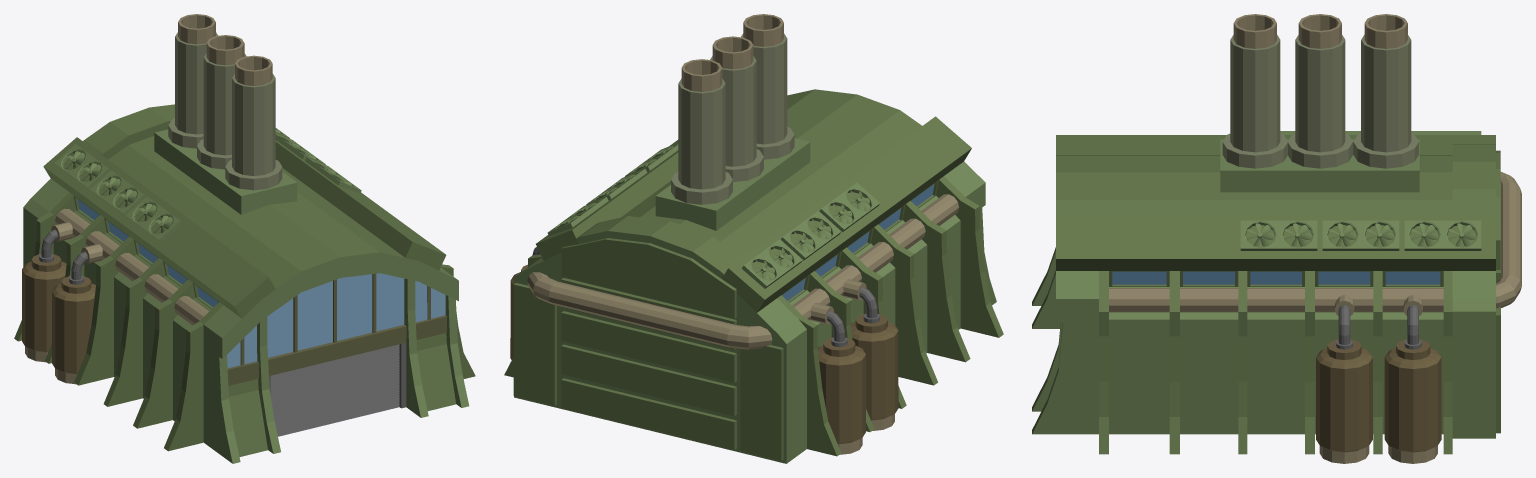
File: Tank_FactoryFIXED.fbx
3 renders of one model, left to right at view 1: azimuth 30°, elevation 25°; view 2: azimuth 150°, elevation 25°; view 3: azimuth 270°, elevation 25°, orthographic. The views are drawn at different scales.
Parts seen in each view (by area): view 1: Body_Main, Cube.109, Body_Inside, truba.002, truba.004, truba.003, Cube.105, Cube.101, Cube.163, Cube.113, Cylinder.199, Cube.167 (+7 smaller); view 2: Body_Main, Pipe_Big, Body_Main.001, truba.004, Cube.196, Cube.197, Cube.198, truba.003, truba.002, Cube.199, Cube.200, Cube.101 (+8 smaller); view 3: Body_Main, Pipe_Big, truba.004, truba.002, truba.003, Cube.101, Cylinder.189, Cylinder.184, Cube.170, Cube.176, Cube.169, Cube.163 (+5 smaller).
Boxes of the visible parts, left/top/right/bottom form: Body_Main: left=14, top=104, right=475, bottom=463; Cube.109: left=270, top=344, right=399, bottom=436; Body_Inside: left=267, top=273, right=404, bottom=357; truba.002: left=225, top=55, right=282, bottom=190; truba.004: left=168, top=14, right=217, bottom=148; truba.003: left=197, top=35, right=246, bottom=169; Cube.105: left=227, top=315, right=447, bottom=385; Cube.101: left=154, top=129, right=297, bottom=214; Cube.163: left=257, top=278, right=428, bottom=453; Cube.113: left=415, top=281, right=455, bottom=410; Cylinder.199: left=52, top=283, right=95, bottom=374; Cube.167: left=227, top=325, right=267, bottom=456; Body_Main: left=504, top=89, right=1003, bottom=463; Pipe_Big: left=527, top=194, right=958, bottom=349; Body_Main.001: left=561, top=238, right=736, bottom=318; truba.004: left=671, top=59, right=732, bottom=204; Cube.196: left=561, top=311, right=736, bottom=382; Cube.197: left=561, top=344, right=736, bottom=416; Cube.198: left=561, top=378, right=736, bottom=449; truba.003: left=710, top=36, right=763, bottom=181; truba.002: left=741, top=14, right=794, bottom=159; Cube.199: left=740, top=345, right=783, bottom=460; Cube.200: left=513, top=283, right=556, bottom=405; Cube.101: left=655, top=138, right=810, bottom=230; Body_Main: left=1032, top=135, right=1495, bottom=454; Pipe_Big: left=1109, top=172, right=1521, bottom=312; truba.004: left=1353, top=14, right=1418, bottom=168; truba.002: left=1222, top=14, right=1287, bottom=168; truba.003: left=1287, top=14, right=1353, bottom=168; Cube.101: left=1220, top=139, right=1419, bottom=192; Cylinder.189: left=1384, top=348, right=1441, bottom=452; Cylinder.184: left=1316, top=348, right=1372, bottom=452; Cube.170: left=1240, top=220, right=1317, bottom=250; Cube.176: left=1404, top=220, right=1481, bottom=250; Cube.169: left=1322, top=220, right=1399, bottom=250; Cube.163: left=1032, top=270, right=1062, bottom=411.
Size of the model in its own units: 1256 by 1142 by 1442.
